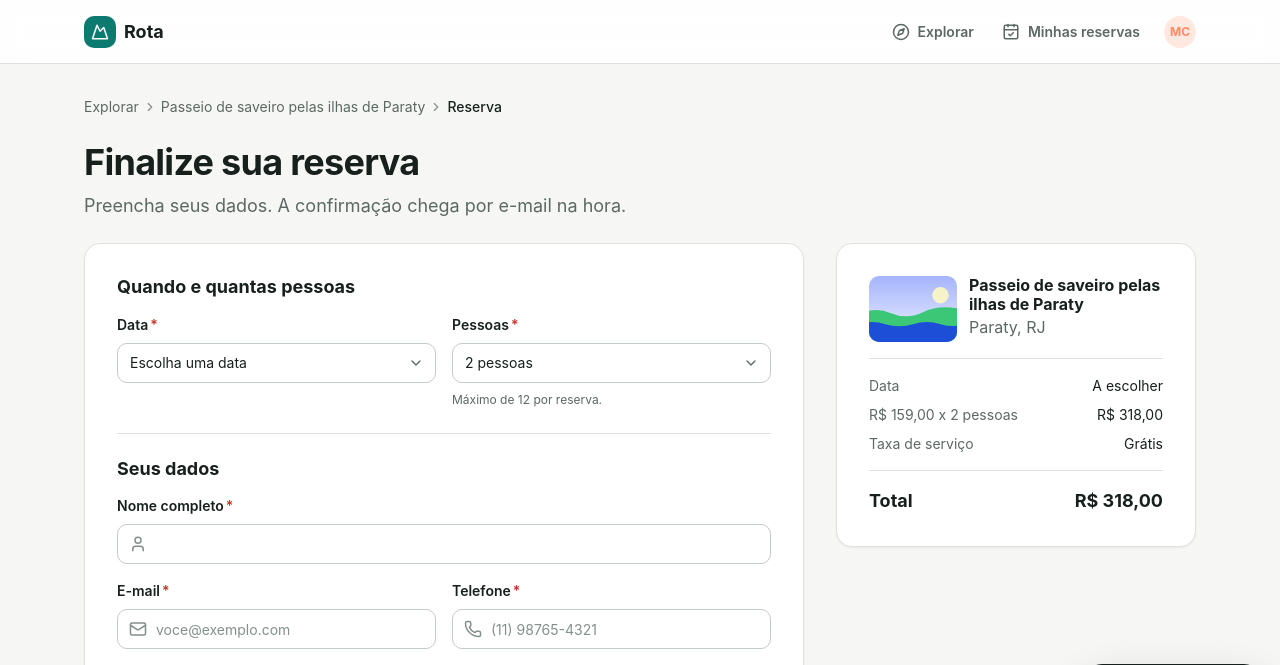
Test: Fluxo de reserva › aplica a máscara de telefone
This screenshot has width=1280, height=665.
Type "11987654321" into the field labelled "Telefone*" at coordinates (612, 629), box [452,609,771,649]
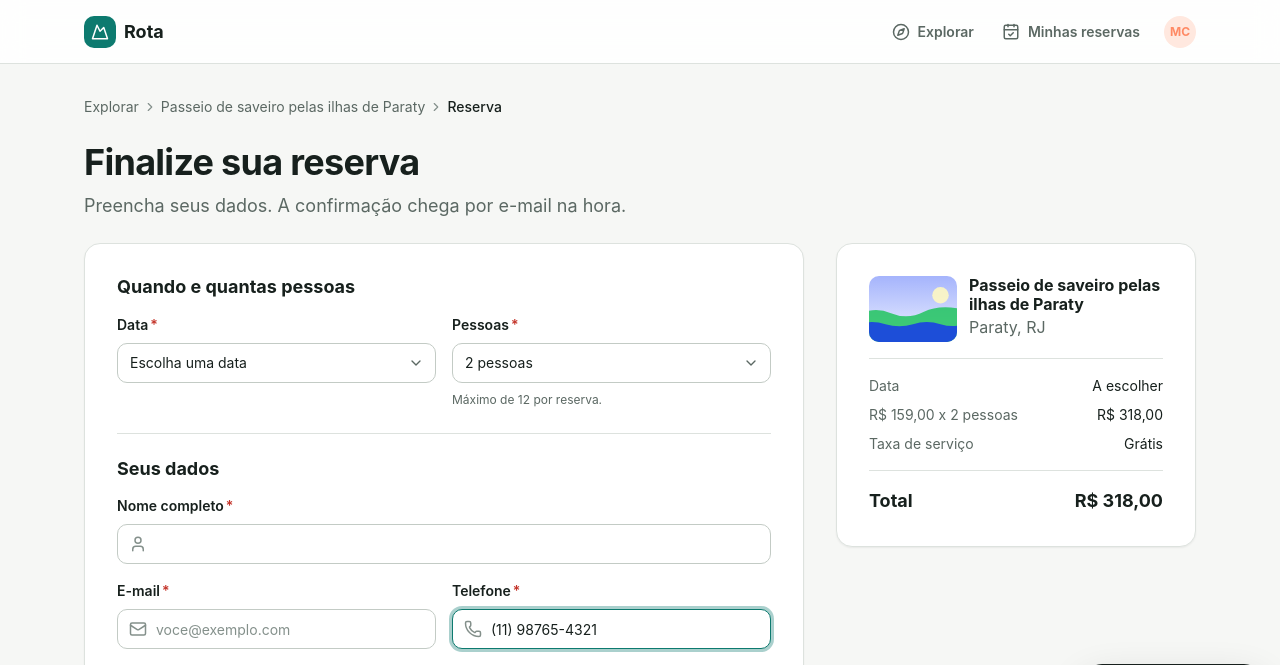
expect the field labelled "Telefone*" holds "(11) 98765-4321": met, box [452,609,771,649]
